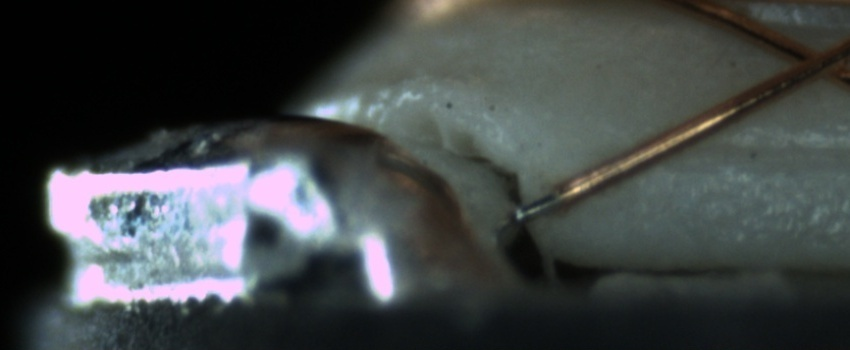CL: (769, 28, 848, 89)
DL: (675, 116, 846, 186)
TS: (515, 190, 562, 222)
TTCW: (516, 170, 591, 222)
